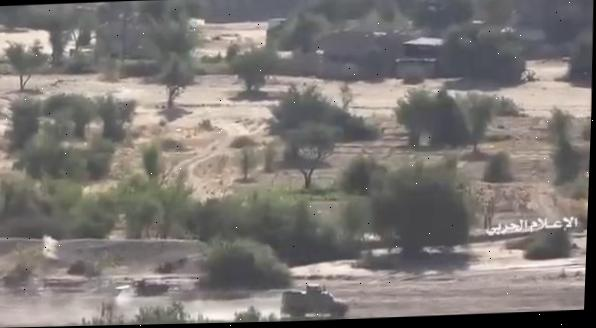armored_car: (279, 282, 350, 319)
truck: (124, 274, 173, 298)
